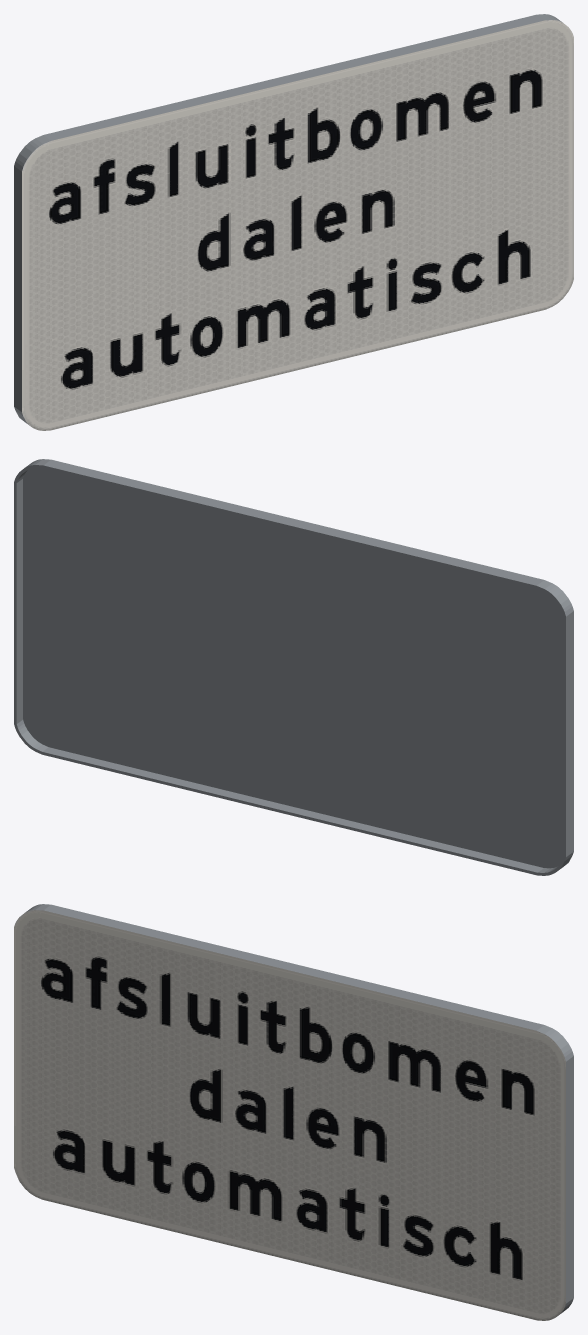
The picture shows the model from 3 angles, top to bottom: view 1: azimuth 30°, elevation 25°; view 2: azimuth 150°, elevation 25°; view 3: azimuth 330°, elevation 25°; orthographic projection.
Parts seen in each view (by area): view 1: cat_7fc6a58aae2998c1; view 2: cat_7fc6a58aae2998c1; view 3: cat_7fc6a58aae2998c1.
Boxes of the visible parts, bbox=[...] form: cat_7fc6a58aae2998c1: bbox=[14, 14, 573, 430]; cat_7fc6a58aae2998c1: bbox=[14, 459, 573, 875]; cat_7fc6a58aae2998c1: bbox=[14, 904, 573, 1320].
Bounding box in the file's own units: 0.6 × 0.015 × 0.3007.
2 materials, 1 textured.
